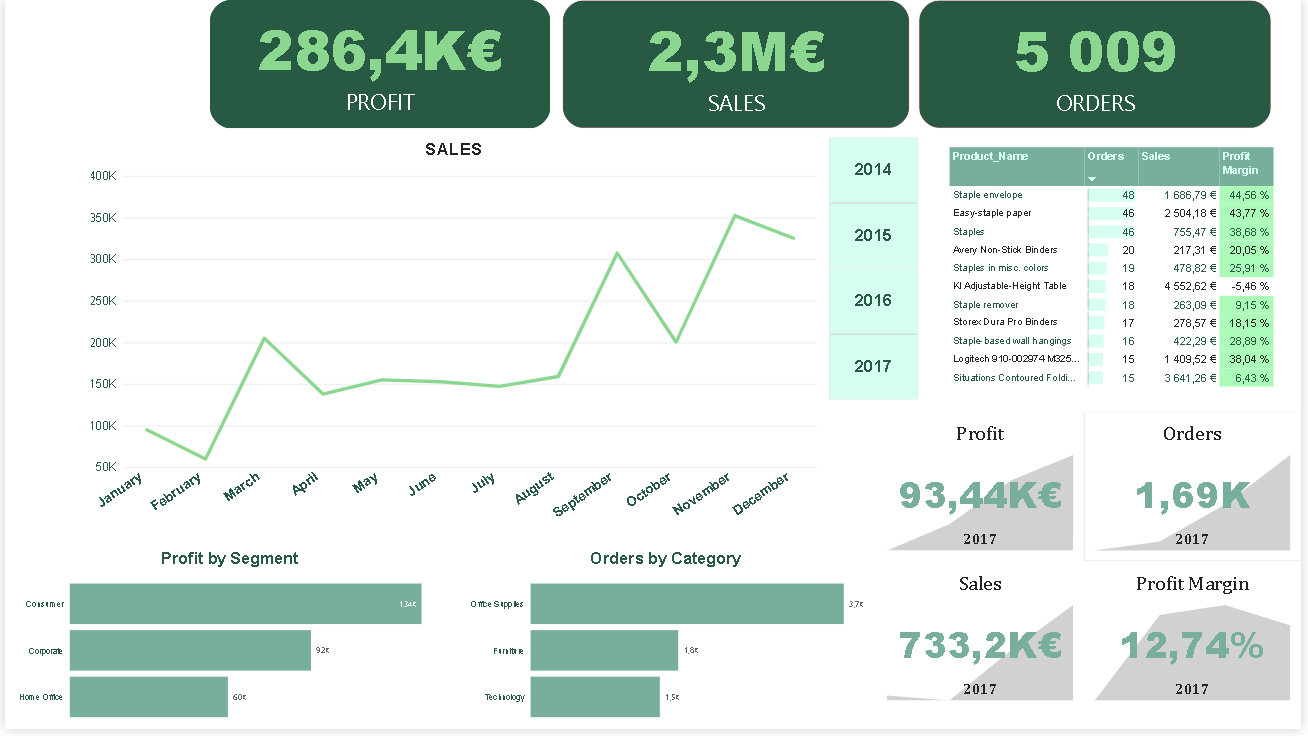

The dashboard page shown, as its layout file describes it:
{"tool":"powerbi","page":{"name":"Page 1","canvas":[1920,1080],"ordinal":0},"visuals":[{"type":"cardVisual","fields":{"Data":["Sum(SuperstoreAnalysis.Profit)"]},"box":[303.7,0,504,190],"z":0},{"type":"kpi","title":"Profit","fields":{"Indicator":["Sum(SuperstoreAnalysis.Profit)"],"TrendLine":["SuperstoreAnalysis.Order_Date.Variation.Date Hierarchy.Year"]},"box":[1290,610,308,222],"z":1000},{"type":"kpi","title":"Sales","fields":{"Indicator":["Sum(SuperstoreAnalysis.Sales)"],"TrendLine":["SuperstoreAnalysis.Order_Date.Variation.Date Hierarchy.Year"]},"box":[1290,832,308,222],"z":2000},{"type":"kpi","title":"Orders","fields":{"Indicator":["Count(SuperstoreAnalysis.Order_ID)"],"TrendLine":["SuperstoreAnalysis.Order_Date.Variation.Date Hierarchy.Year"]},"box":[1598,610,322,222],"z":3000},{"type":"kpi","title":"Profit Margin","fields":{"Indicator":["SuperstoreAnalysis.Sum of Profit divided by Sum of Sales"],"TrendLine":["SuperstoreAnalysis.Order_Date.Variation.Date Hierarchy.Year"]},"box":[1598,832,322,222],"z":4000},{"type":"cardVisual","fields":{"Data":["Sum(SuperstoreAnalysis.Sales)"]},"box":[826,0,514,190],"z":5000},{"type":"cardVisual","fields":{"Data":["Count(SuperstoreAnalysis.Order_ID)"]},"box":[1353.7,0,522,190],"z":6000},{"type":"lineChart","title":"SALES","fields":{"Category":["SuperstoreAnalysis.Order_Date.Variation.Date Hierarchy.Month"],"Y":["Sum(SuperstoreAnalysis.Sales)"]},"box":[112,190,1108,608],"z":7000},{"type":"pivotTable","fields":{"Rows":["SuperstoreAnalysis.Product_Name"],"Values":["CountNonNull(SuperstoreAnalysis.Order_ID)","Sum(SuperstoreAnalysis.Sales)","SuperstoreAnalysis.Sum of Profit divided by Sum of Sales"]},"box":[1384,204,536,406],"z":8000},{"type":"barChart","title":"Orders by Category","fields":{"Category":["SuperstoreAnalysis.Category"],"Y":["Count(SuperstoreAnalysis.Order_ID)"]},"box":[666,798,624,282],"z":9000},{"type":"barChart","title":"Profit by Segment","fields":{"Category":["SuperstoreAnalysis.Segment"],"Y":["Sum(SuperstoreAnalysis.Profit)"]},"box":[0,798,666,282],"z":10000},{"type":"advancedSlicerVisual","fields":{"Values":["SuperstoreAnalysis.Order_Date.Variation.Date Hierarchy.Year"]},"box":[1220.4,203.7,133.3,388.9],"z":11000}]}

Visuals, with their boxes in screenshot pixels (x1, y1, x2, y2), scaled from the page's 1920x1080 canvas onto the 1308x736 screenshot:
cardVisual - Sum(SuperstoreAnalysis.Profit): bbox=[207, 0, 550, 129]
"Profit" kpi: bbox=[879, 416, 1089, 567]
"Sales" kpi: bbox=[879, 567, 1089, 718]
"Orders" kpi: bbox=[1089, 416, 1307, 567]
"Profit Margin" kpi: bbox=[1089, 567, 1307, 718]
cardVisual - Sum(SuperstoreAnalysis.Sales): bbox=[563, 0, 913, 129]
cardVisual - Count(SuperstoreAnalysis.Order_ID): bbox=[922, 0, 1278, 129]
"SALES" lineChart: bbox=[76, 129, 831, 544]
pivotTable - SuperstoreAnalysis.Product_Name x CountNonNull(SuperstoreAnalysis.Order_ID): bbox=[943, 139, 1307, 416]
"Orders by Category" barChart: bbox=[454, 544, 879, 735]
"Profit by Segment" barChart: bbox=[0, 544, 454, 735]
advancedSlicerVisual - SuperstoreAnalysis.Order_Date.Variation.Date Hierarchy.Year: bbox=[831, 139, 922, 404]
